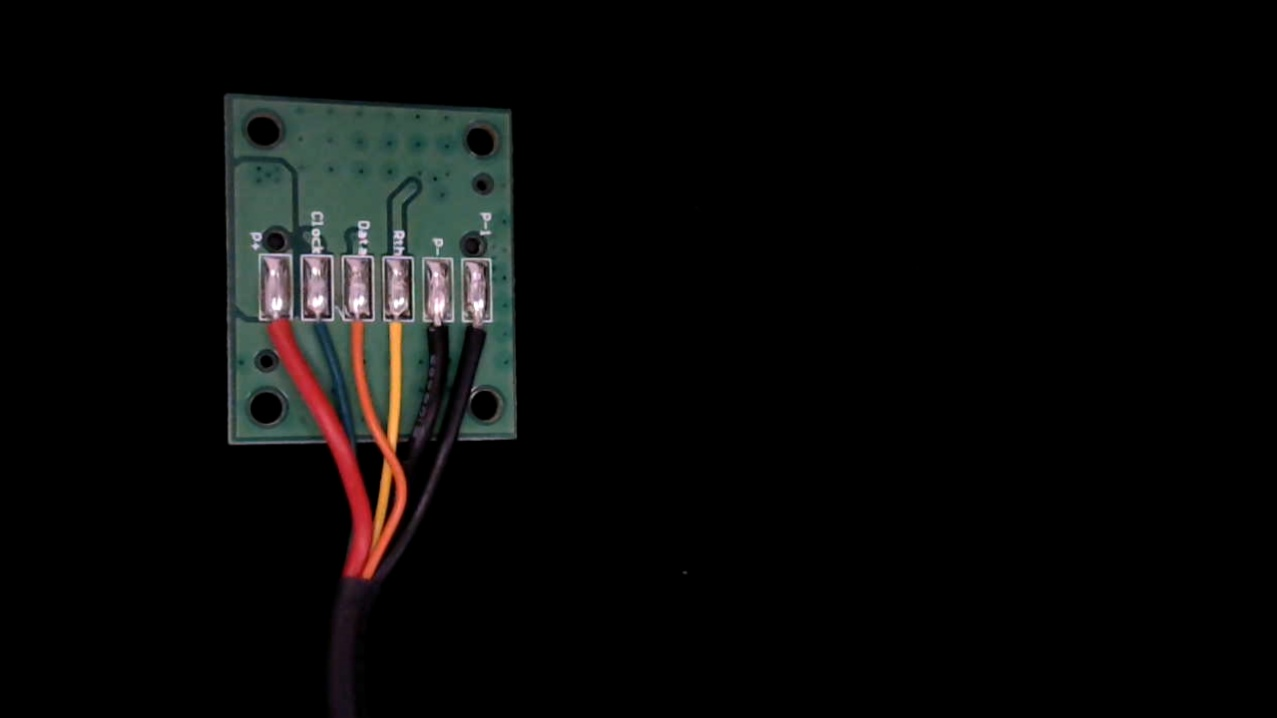Black: (421, 301, 456, 375)
Black1: (462, 303, 495, 371)
Green: (301, 294, 336, 365)
Orange: (341, 299, 374, 372)
Red: (259, 299, 294, 370)
Yellow: (382, 302, 417, 377)
